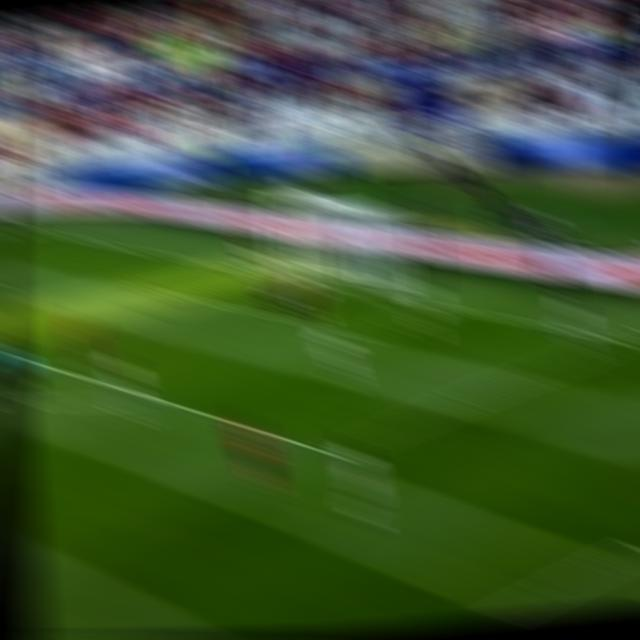bigarea_bottom_inner: (311, 437, 356, 469)
bigarea_bottom_outter: (596, 328, 638, 353)
bigarea_top_outter: (107, 239, 144, 258)
corner: (0, 217, 36, 239)
smallarea_bottom_inner: (348, 325, 378, 345)
smallarea_bottom_outter: (424, 298, 461, 318)
smallarea_top_inner: (137, 277, 173, 302)
smallarea_top_outter: (208, 259, 246, 279)
top_arc_area_intersection: (127, 385, 158, 407)
